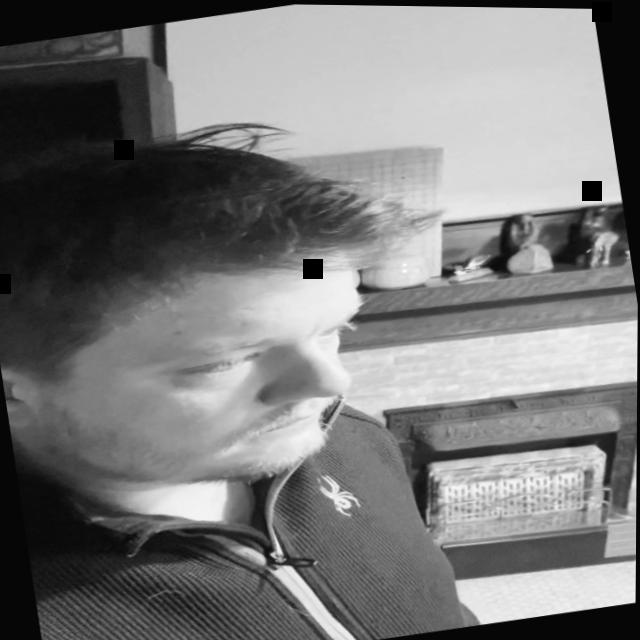NO-Mask: (50, 251, 392, 510)
